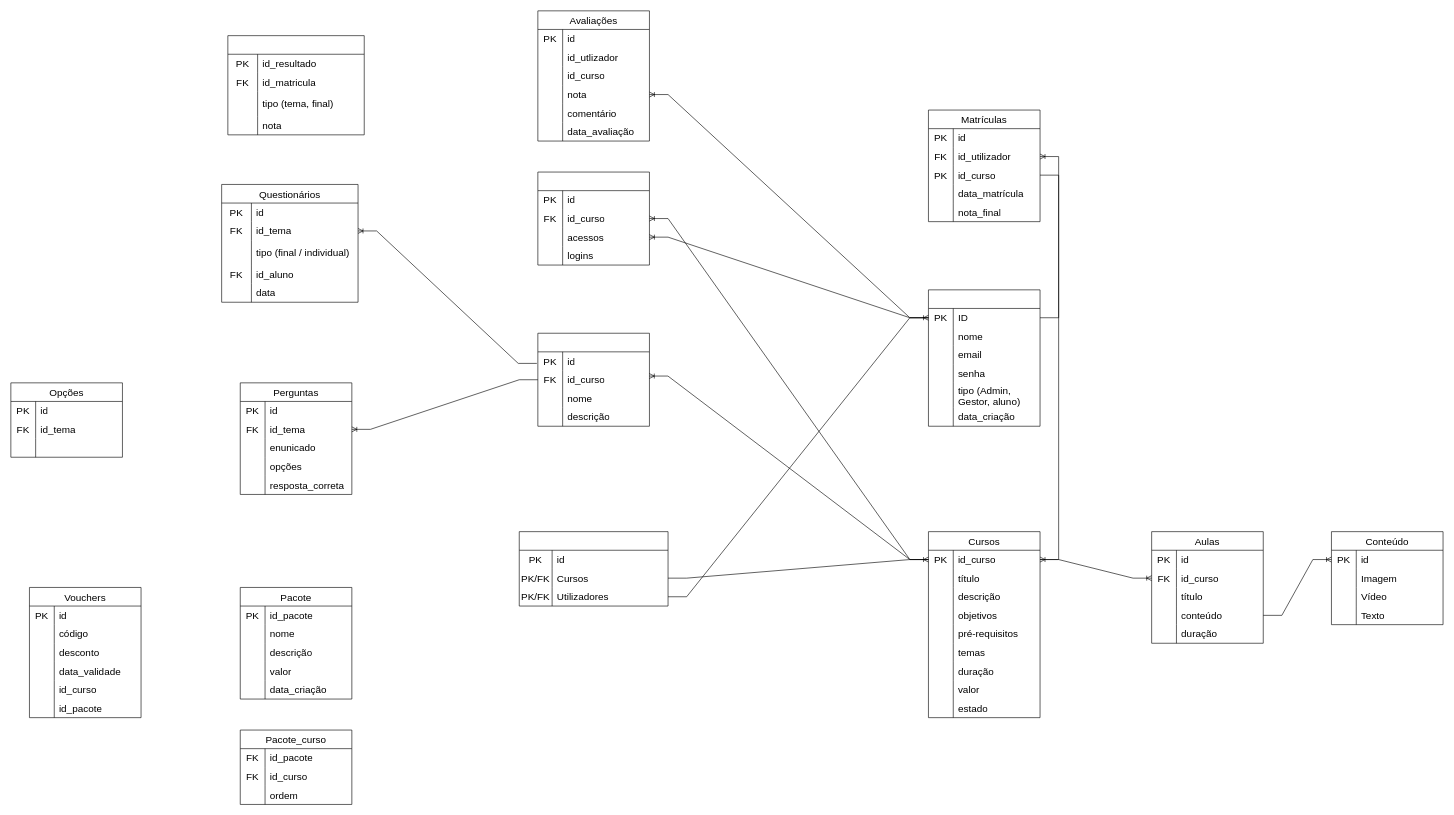
Image size: 1454x815. Some labels were removed from this diagram. Each missing label, with the box of its shape:
Aplicação: (519, 531, 668, 606)
Estatísticas: (537, 171, 649, 265)
Resultado Questionário: (227, 35, 364, 135)
Tema: (537, 333, 649, 426)
Utilizador: (928, 289, 1040, 426)
